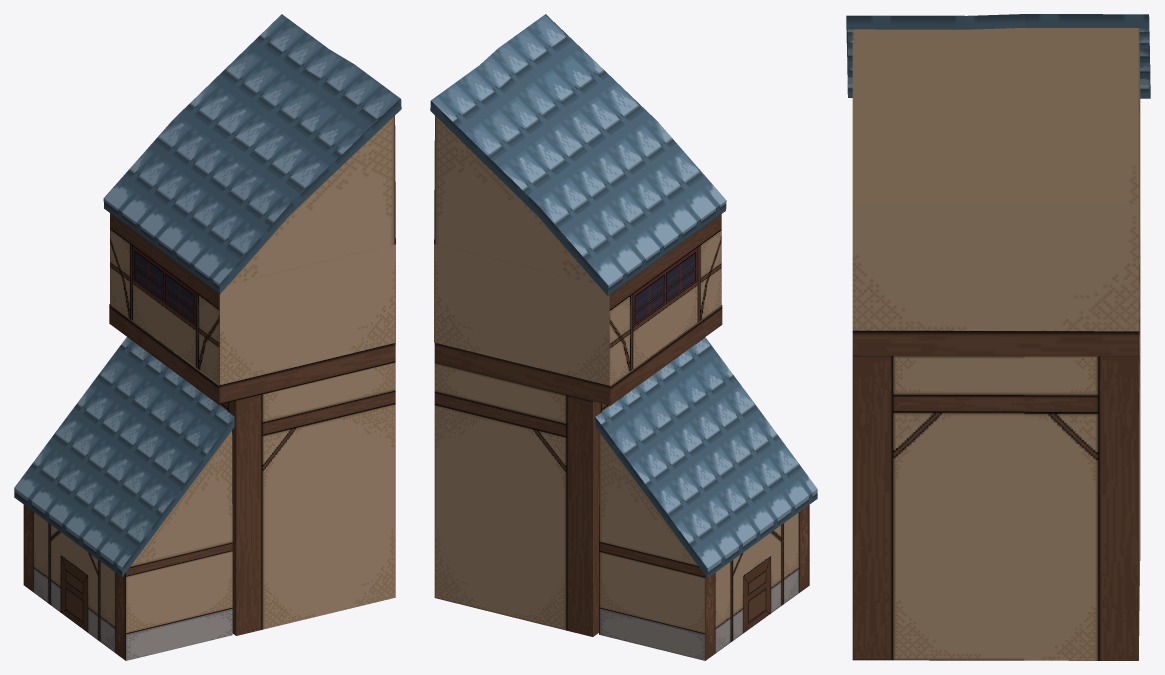
Rendered from TallBlueHouse1.fbx.
3 views of the same model, side by side, from view 1: azimuth 30°, elevation 25°; view 2: azimuth 150°, elevation 25°; view 3: azimuth 270°, elevation 25° (orthographic). The views are drawn at different scales.
Visible parts, largest first — view 1: New object.035; view 2: New object.035; view 3: New object.035.
Boxes of the visible parts, box(x1,y1,x2,y2) form: New object.035: box(14, 14, 401, 660); New object.035: box(430, 14, 817, 660); New object.035: box(846, 14, 1150, 660).
Size of the model in its own units: 330 by 571 by 243.
1 material, 1 textured.
